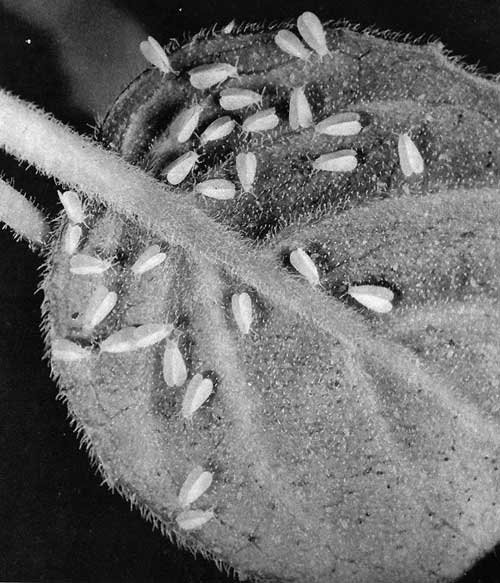whitefly: (296, 8, 334, 63), (340, 277, 394, 314), (82, 284, 117, 336), (139, 35, 178, 79), (391, 127, 425, 177), (274, 29, 316, 69), (180, 373, 212, 423), (161, 335, 189, 390), (187, 62, 241, 90), (160, 150, 202, 185), (171, 96, 201, 144), (55, 188, 91, 228), (92, 328, 142, 356), (289, 247, 323, 288), (179, 466, 212, 508), (285, 82, 313, 129), (313, 112, 363, 137), (196, 115, 235, 147), (237, 109, 278, 139), (308, 148, 358, 172), (133, 321, 181, 346), (231, 292, 256, 338), (68, 253, 120, 275), (50, 338, 97, 362), (234, 151, 257, 200), (130, 245, 166, 276), (174, 509, 218, 533), (218, 87, 264, 109), (191, 178, 236, 200), (60, 224, 81, 256)
